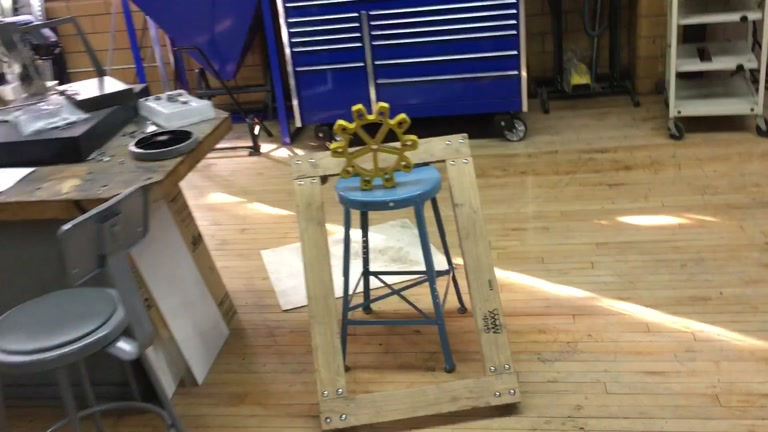gear: (329, 103, 419, 191)
